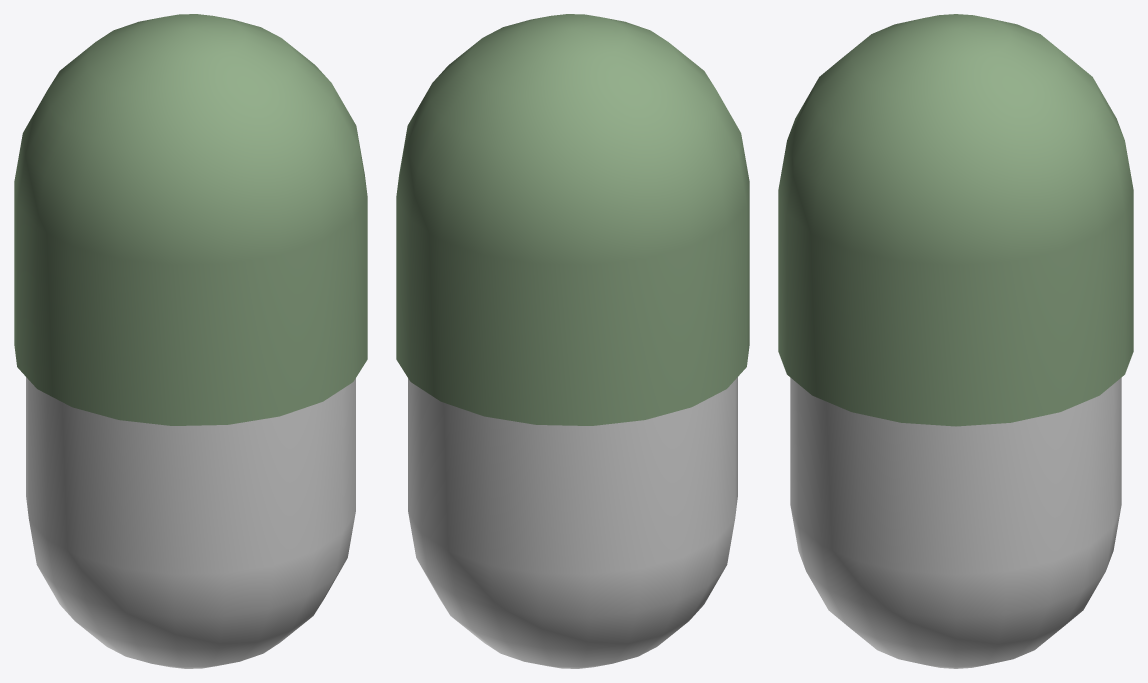
The model's file is Hunger_Pill.fbx.
3 renders of one model, left to right at view 1: azimuth 30°, elevation 25°; view 2: azimuth 150°, elevation 25°; view 3: azimuth 270°, elevation 25°, orthographic.
Parts seen in each view (by area): view 1: Hunger_Pill; view 2: Hunger_Pill; view 3: Hunger_Pill.
Boxes of the visible parts, left/top/right/bottom form: Hunger_Pill: left=14, top=14, right=367, bottom=668; Hunger_Pill: left=396, top=14, right=749, bottom=668; Hunger_Pill: left=778, top=14, right=1133, bottom=668.
Bounding box in the file's own units: 1.07 × 2.08 × 1.07.
